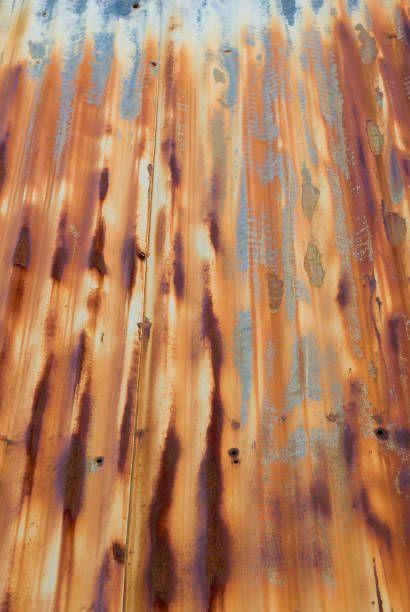metal: (3, 1, 403, 601)
